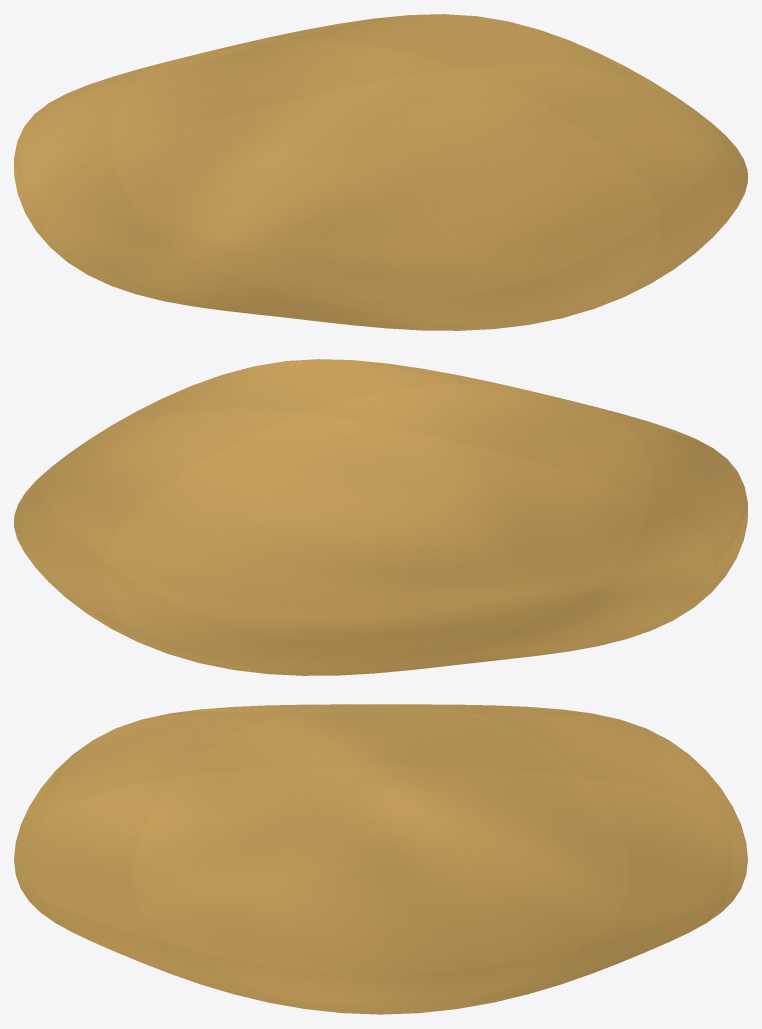
File: sand.fbx
The picture shows the model from 3 angles, top to bottom: view 1: azimuth 30°, elevation 25°; view 2: azimuth 150°, elevation 25°; view 3: azimuth 270°, elevation 25°; orthographic projection.
Parts seen in each view (by area): view 1: Sand; view 2: Sand; view 3: Sand.
Part boxes in pixels (bbox=[...]): Sand: bbox=[14, 14, 747, 330]; Sand: bbox=[14, 359, 747, 675]; Sand: bbox=[14, 704, 747, 1014].
Bounding box in the file's own units: 296 × 22.79 × 296.
